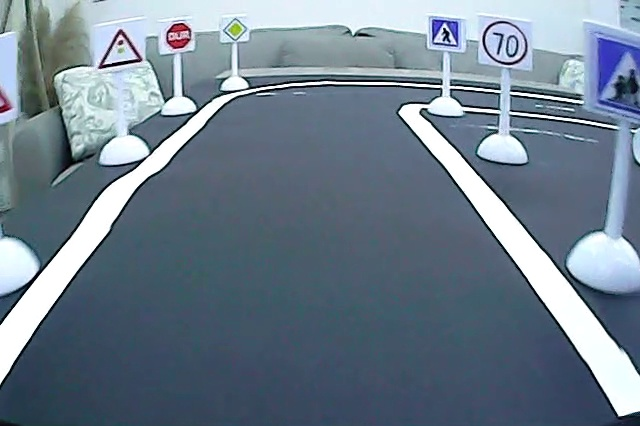pedestrian crossing: (430, 18, 462, 51)
red light: (95, 26, 146, 72)
school crossing: (590, 30, 640, 117)
speed limit 70: (479, 17, 530, 69)
stop sign: (164, 20, 194, 51)
